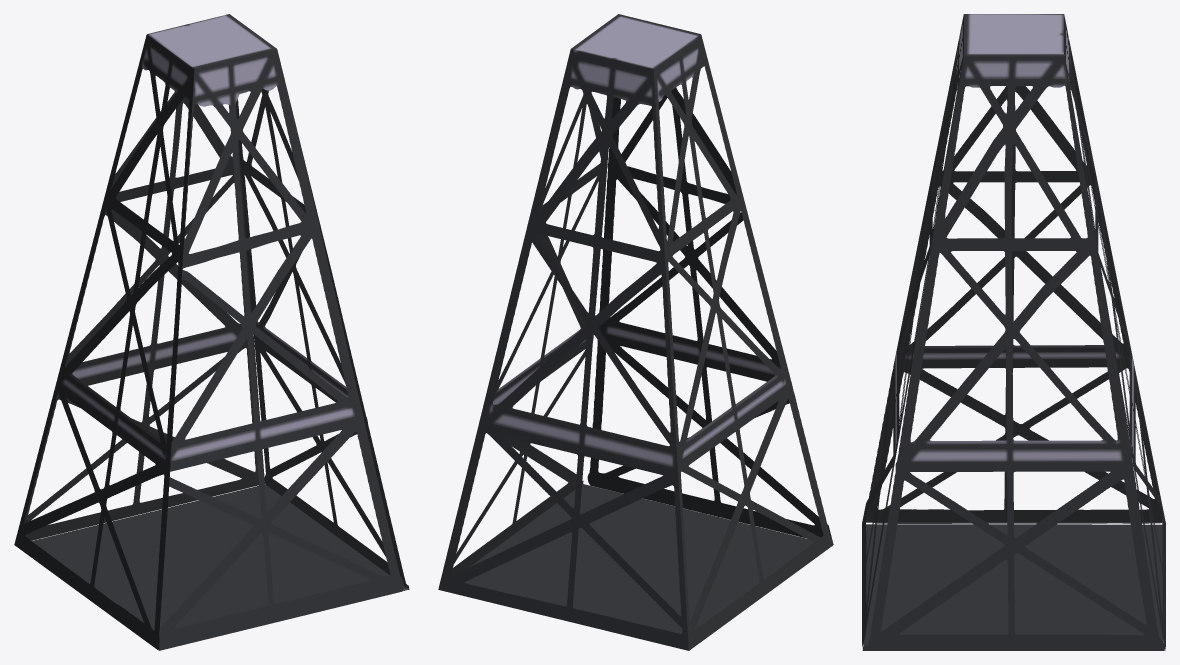
The model's file is rig.obj.
The picture shows the model from 3 angles, left to right: view 1: azimuth 30°, elevation 25°; view 2: azimuth 150°, elevation 25°; view 3: azimuth 270°, elevation 25°; orthographic projection. The views are drawn at different scales.
Parts seen in each view (by area): view 1: Cube; view 2: Cube; view 3: Cube.
Boxes of the visible parts, <box> form: Cube: <box>14,14,409,650</box>; Cube: <box>438,14,833,650</box>; Cube: <box>862,14,1165,650</box>.
Bounding box in the file's own units: 2 × 4.01 × 2.
1 material, 1 textured.
